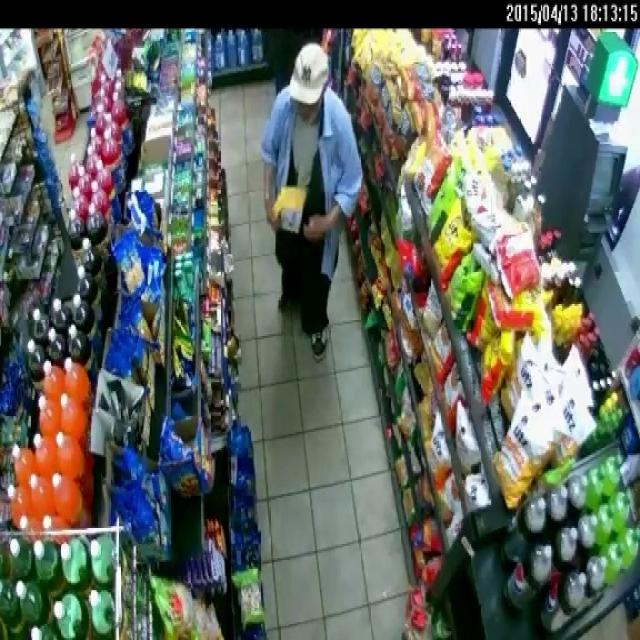Product: (273, 185, 306, 231)
shoplifting: (233, 26, 369, 352)
